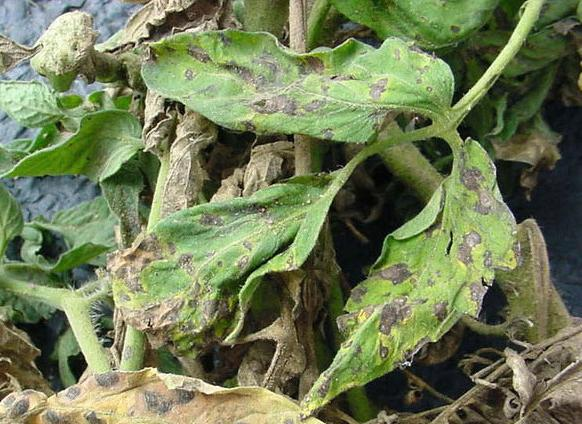Tomato leaf late blight: (295, 132, 523, 419), (118, 169, 340, 342), (132, 33, 459, 143)
